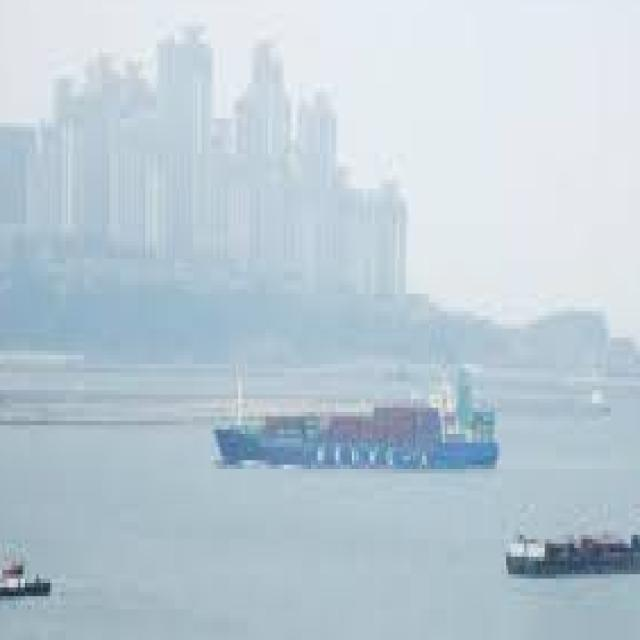cargoship: (211, 354, 502, 474), (506, 517, 640, 583)
fishing boat: (0, 534, 50, 600)
